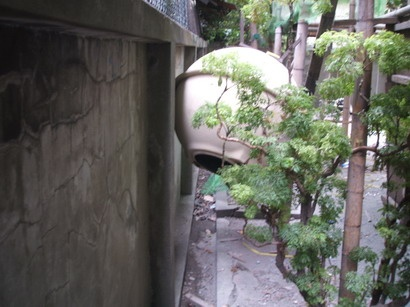water_tower: (176, 46, 290, 176)
